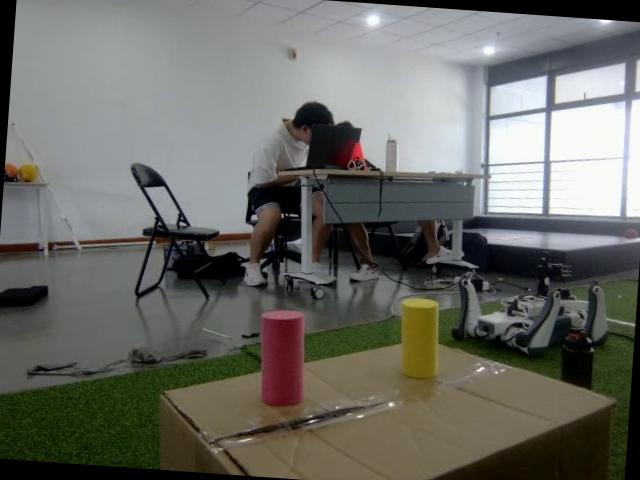red_cylinder: (254, 306, 308, 406)
yellow_cylinder: (396, 296, 443, 378)
